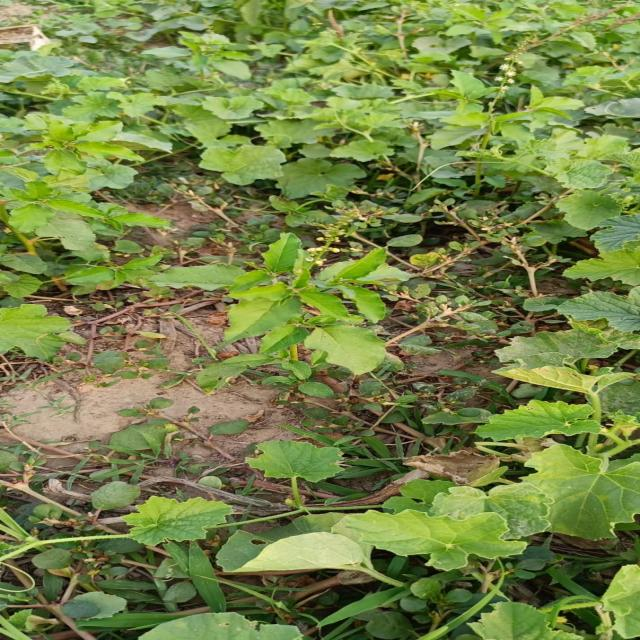plant: (150, 233, 408, 397)
